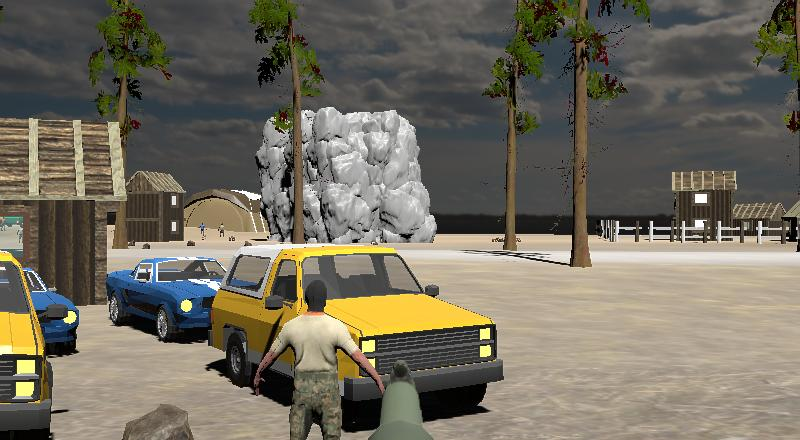House: (0, 116, 125, 304), (123, 169, 186, 242), (671, 169, 737, 238), (732, 202, 786, 239), (786, 195, 800, 245)
Human: (253, 282, 385, 440)
car: (210, 244, 506, 414), (105, 254, 233, 344), (0, 244, 53, 440), (0, 254, 81, 356)
